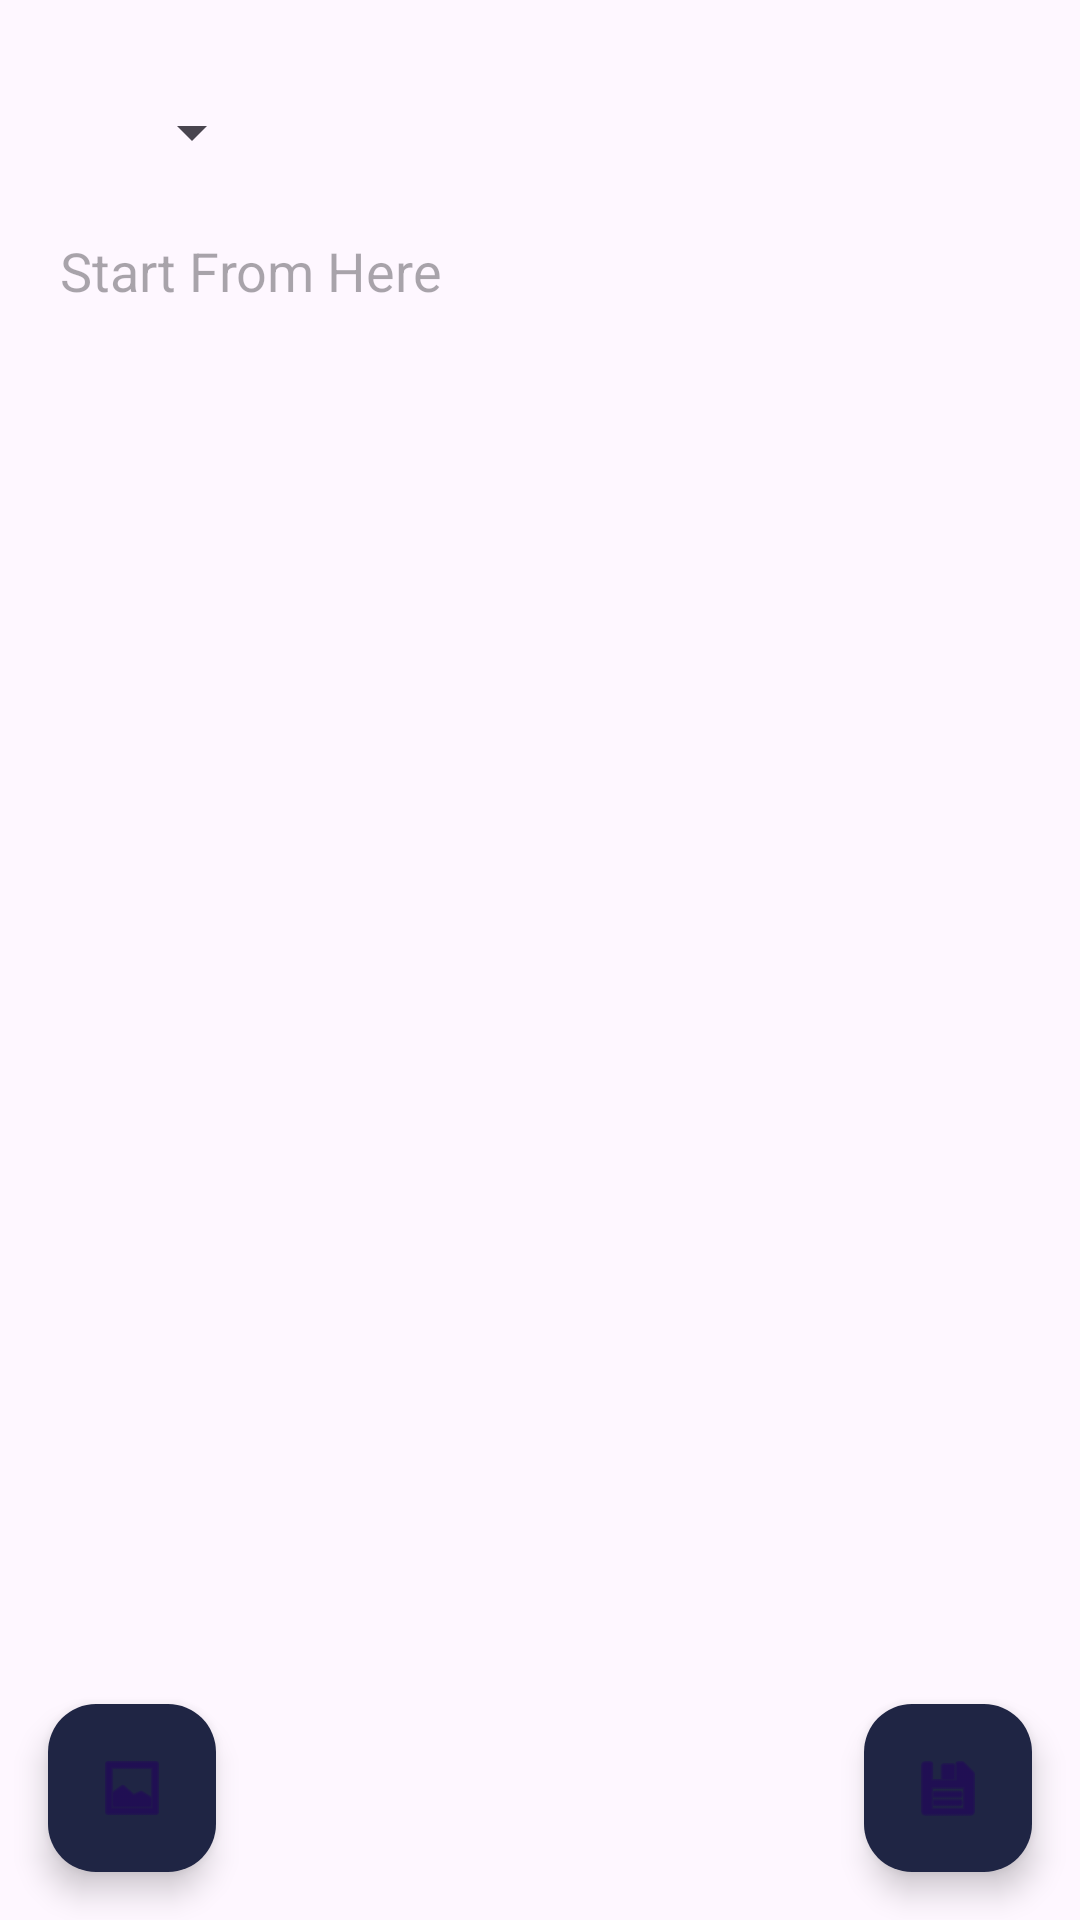

Named icons in this screenshot (1080w x 1920h) and their bounding boxes, (x1, y1, x2, y2):
gallery: (48, 1704, 216, 1872)
save: (864, 1704, 1032, 1872)
